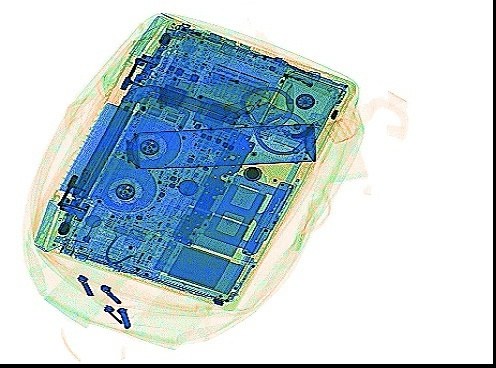handcuffs: (223, 85, 310, 156)
pressure: (123, 122, 317, 172)
